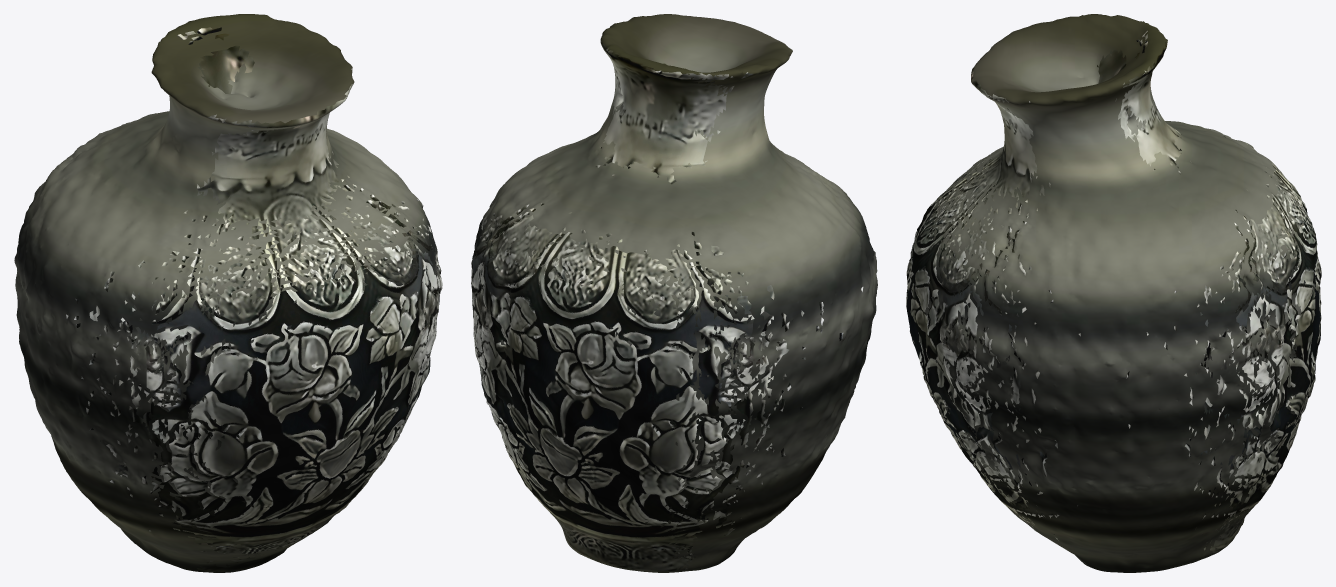
The model's file is kfl-2258.glb.
3 views of the same model, side by side, from view 1: azimuth 30°, elevation 25°; view 2: azimuth 150°, elevation 25°; view 3: azimuth 270°, elevation 25° (orthographic). The views are drawn at different scales.
Parts seen in each view (by area): view 1: kfl-2258; view 2: kfl-2258; view 3: kfl-2258.
Boxes of the visible parts, <box> form: kfl-2258: <box>14,14,442,572</box>; kfl-2258: <box>471,14,877,572</box>; kfl-2258: <box>906,14,1321,572</box>.
Bounding box in the file's own units: 0.7397 × 0.9956 × 0.7388.
Materials: 3 (3 with a texture image).
